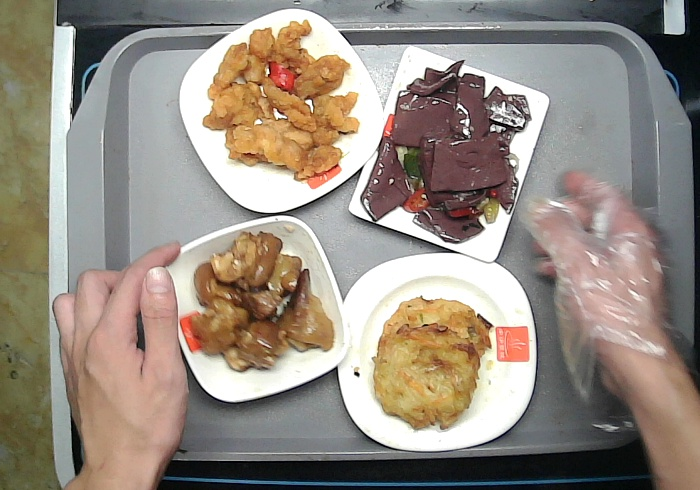SHKJ-Bai_Se_Cai_Die: (176, 5, 392, 220)
SHKJ-Bai_Se_Si_Fang_Cai_Die: (333, 248, 542, 459)
SHKJ-Bai_Se_Xiao_Fang_Die: (150, 212, 352, 404)
SHKJ-Si_Fang_Min: (345, 41, 556, 267)
